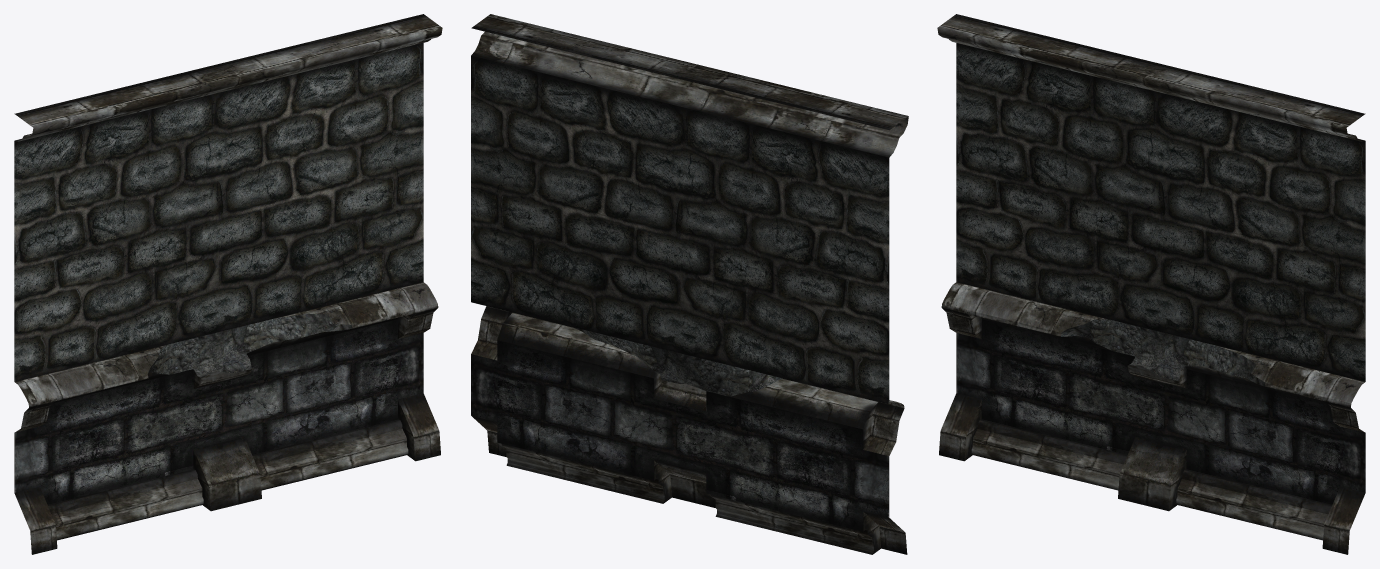
File: default_broken01.dae
3 renders of one model, left to right at view 1: azimuth 30°, elevation 25°; view 2: azimuth 150°, elevation 25°; view 3: azimuth 330°, elevation 25°, orthographic. The views are drawn at different scales.
Visible parts, largest first — view 1: polySurface134, polySurface133; view 2: polySurface134, polySurface133; view 3: polySurface134, polySurface133.
Boxes of the visible parts, bbox=[...] form: polySurface134: bbox=[14, 14, 442, 554]; polySurface133: bbox=[148, 313, 352, 377]; polySurface134: bbox=[471, 14, 908, 554]; polySurface133: bbox=[573, 327, 781, 396]; polySurface134: bbox=[937, 14, 1365, 554]; polySurface133: bbox=[1061, 319, 1265, 386].
Size of what is drawn, in the model's own units: 4 by 4 by 0.3219.
